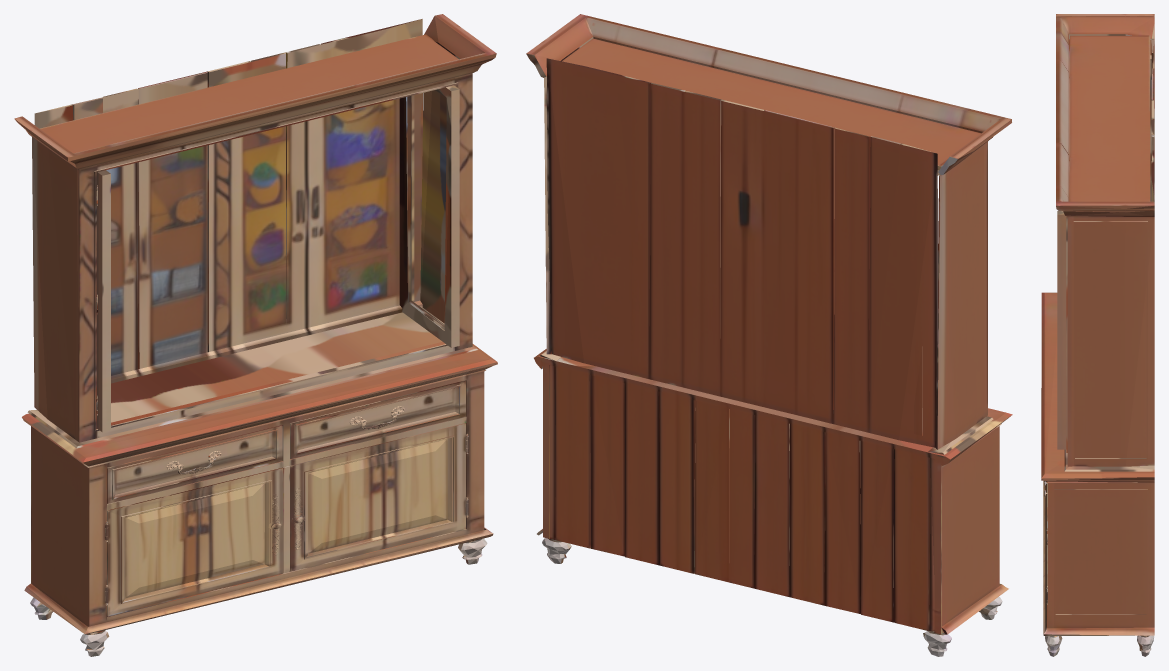
File: edited_mesh.glb
3 views of the same model, side by side, from view 1: azimuth 30°, elevation 25°; view 2: azimuth 150°, elevation 25°; view 3: azimuth 270°, elevation 25° (orthographic). The views are drawn at different scales.
Visible parts, largest first — view 1: solid_001_wire; view 2: solid_001_wire; view 3: solid_001_wire.
Boxes of the visible parts, x1=… form: solid_001_wire: x1=14, y1=14, x2=497, y2=656; solid_001_wire: x1=526, y1=14, x2=1012, y2=656; solid_001_wire: x1=1041, y1=14, x2=1154, y2=656.
Bounding box in the file's own units: 1.23 × 1.38 × 0.3083.
1 material, 1 textured.
